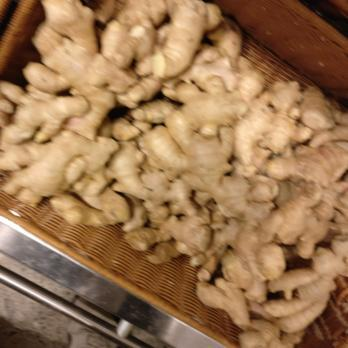Ginger: (173, 63, 348, 348), (0, 0, 192, 232)
